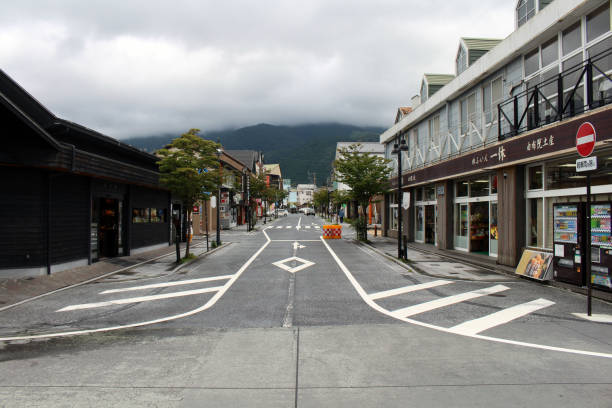Girilmez: (574, 122, 598, 162)
